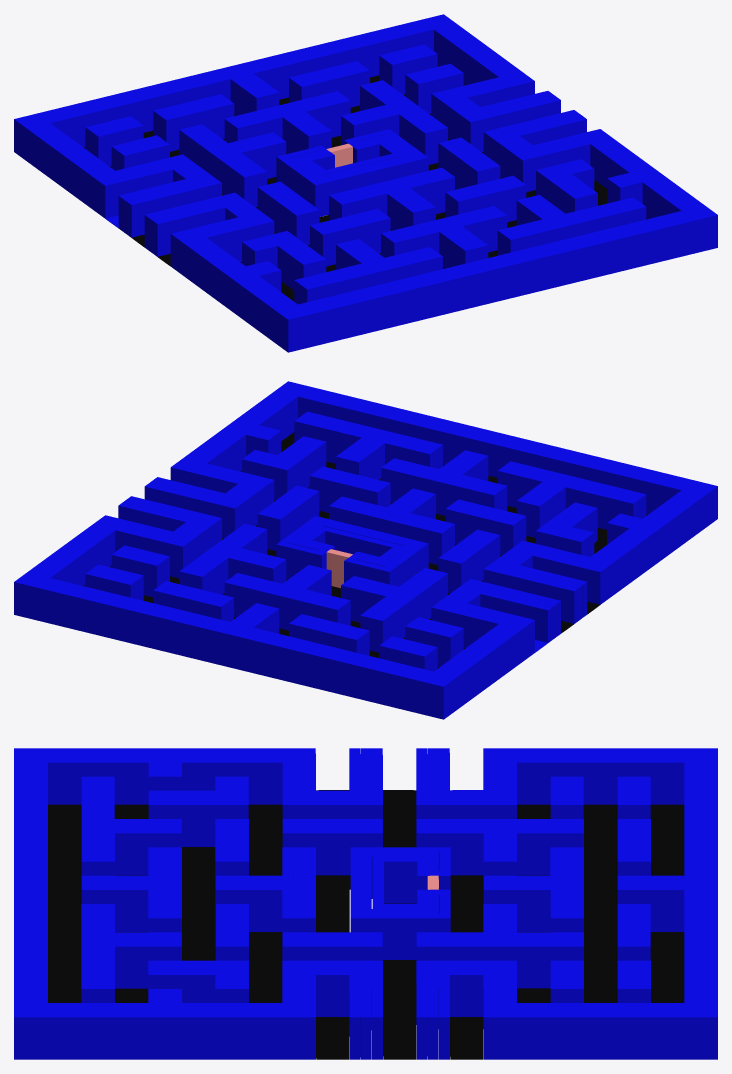
Rendered from Project Name.gltf.
3 views of the same model, one above another, from view 1: azimuth 30°, elevation 25°; view 2: azimuth 150°, elevation 25°; view 3: azimuth 270°, elevation 25° (orthographic). The views are drawn at different scales.
Parts seen in each view (by area): view 1: Path (×35); view 2: Path (×36); view 3: Path (×39).
Boxes of the visible parts, x1,y1,x2,y2 form: Path (×35): (14,14,717,352); Path (×36): (14,381,717,719); Path (×39): (14,748,717,1059).
Bounding box in the file's own units: 1.37 × 0.1002 × 1.51.
